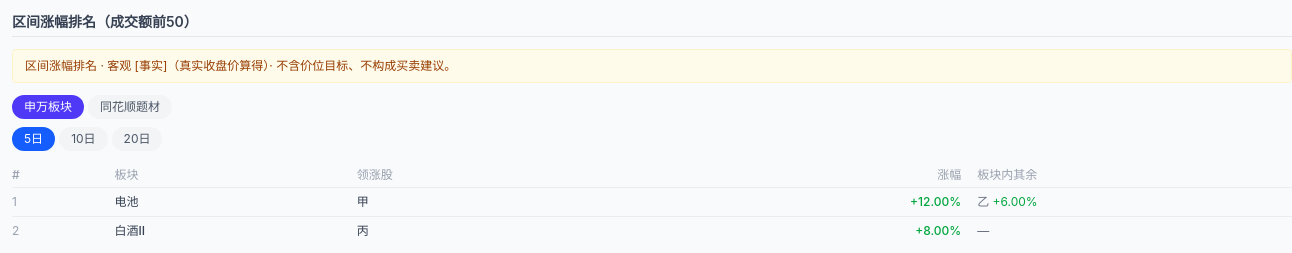
Test: SectorGainRanking › 切到「同花顺题材」维度：展示概念榜（太辰光 CPO +15）
Expected: the text "电池" is shown, top-left (114, 188), bottom-right (357, 216)
Click the tab "同花顺题材": (130, 107) top-left (88, 95), bottom-right (172, 119)
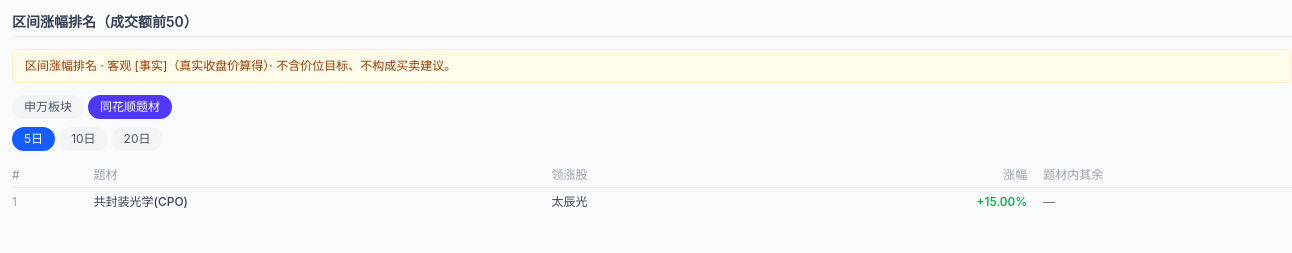
Result: the text "共封装光学(CPO)" is shown at top-left (94, 188), bottom-right (552, 216)
Result: the text "太辰光" is shown at top-left (552, 188), bottom-right (767, 216)
Result: the text "+15.00%" is shown at top-left (767, 188), bottom-right (1043, 216)
